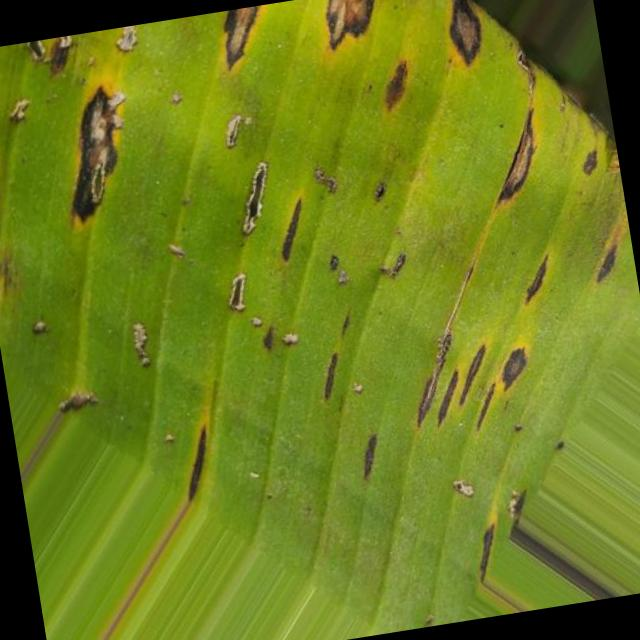Banana_Yellow_Sigatoka: (390, 286, 581, 468), (48, 75, 154, 233), (469, 91, 582, 217), (316, 0, 408, 57), (207, 3, 284, 71), (440, 0, 504, 81)
